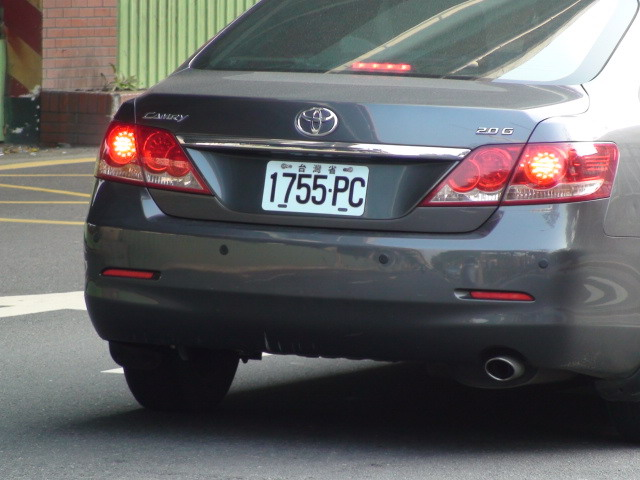plate: (260, 154, 373, 219)
